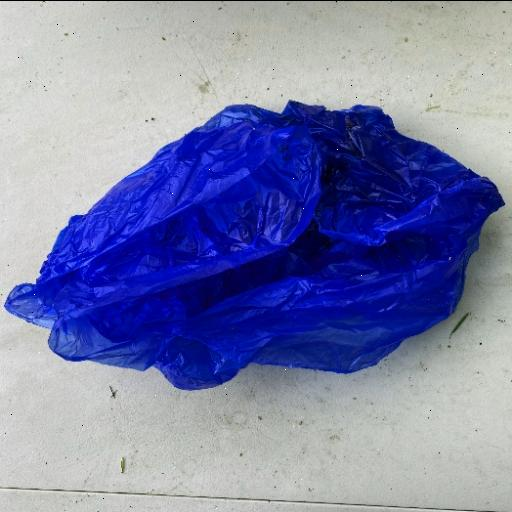Plastic: (4, 98, 504, 392)
